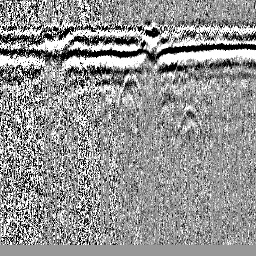cavity: (118, 72, 144, 103)
